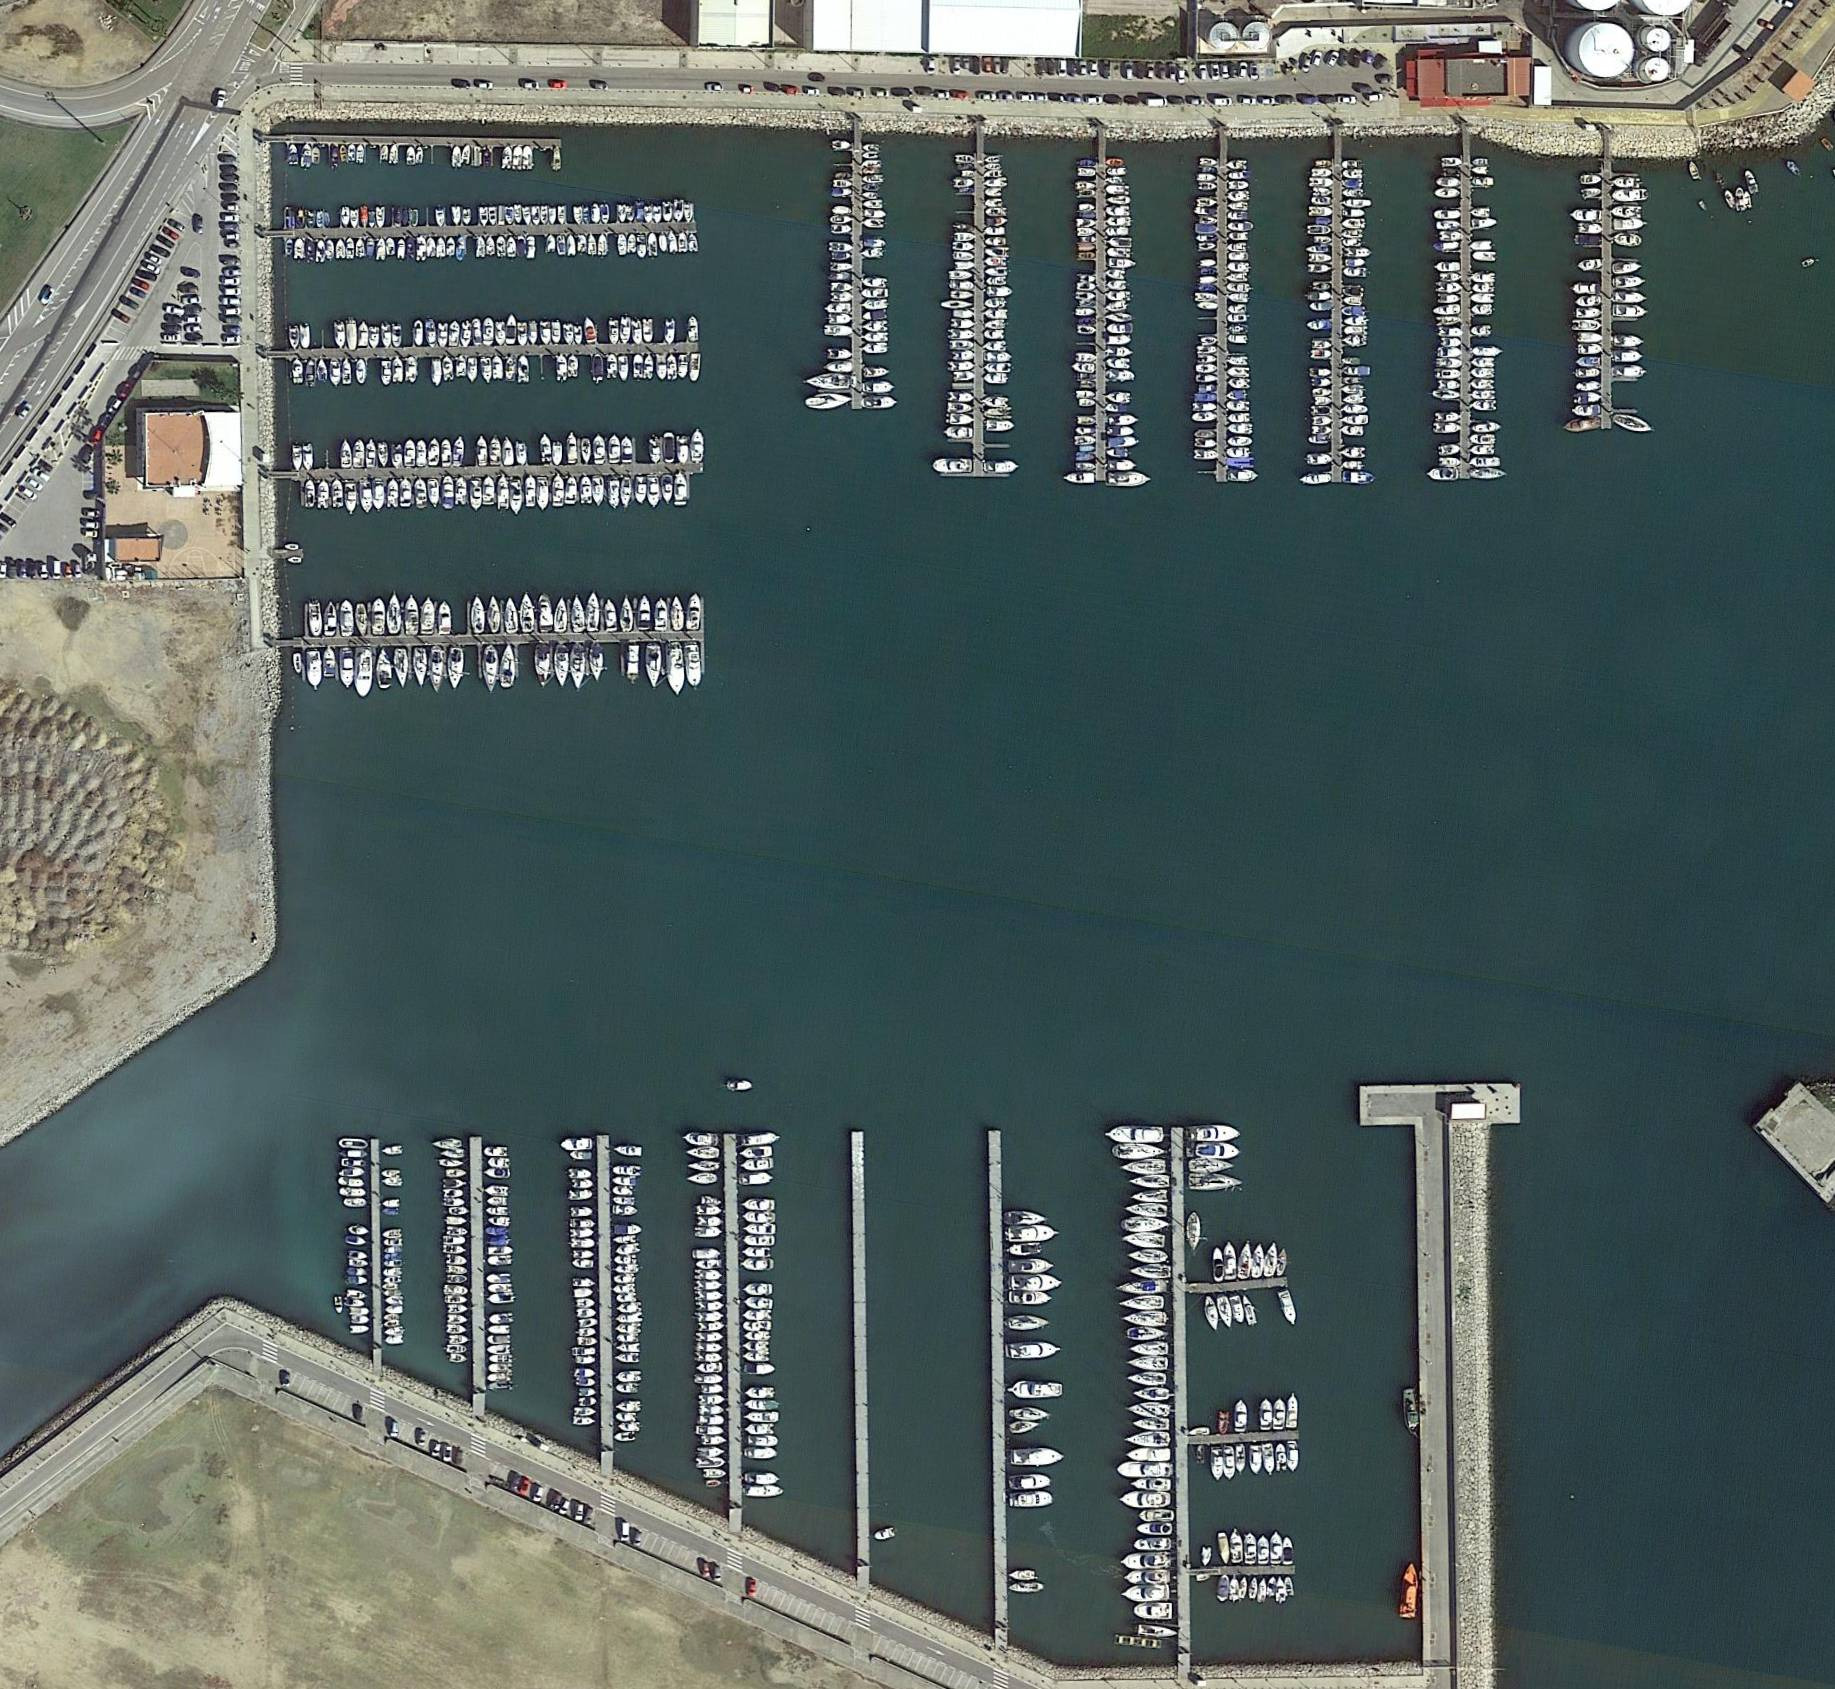harbor: (1359, 1085, 1539, 1655), (1172, 1128, 1300, 1647), (293, 598, 707, 682), (286, 436, 703, 510), (277, 318, 702, 387), (275, 203, 699, 264), (943, 155, 1012, 479), (1073, 147, 1136, 486), (1192, 144, 1253, 486), (1434, 150, 1496, 483), (1309, 145, 1367, 486), (1574, 166, 1642, 430), (823, 150, 890, 412), (988, 1131, 1009, 1628), (273, 134, 563, 168), (850, 1131, 871, 1563), (722, 1135, 743, 1510), (595, 1135, 615, 1453), (468, 1138, 486, 1401), (369, 1139, 384, 1361)
ship: (1400, 1385, 1423, 1438), (1611, 411, 1654, 436), (665, 644, 686, 697), (1009, 1381, 1061, 1401), (1400, 1563, 1419, 1619), (1117, 1460, 1173, 1480), (1010, 1448, 1065, 1467), (1105, 1127, 1164, 1144), (1005, 1342, 1061, 1360), (1188, 1174, 1244, 1192), (353, 647, 372, 698), (1009, 1275, 1061, 1293), (1119, 1491, 1172, 1508), (1200, 1294, 1223, 1334), (1276, 1290, 1300, 1326), (806, 393, 854, 411), (483, 646, 500, 693), (569, 642, 587, 690), (1122, 1585, 1170, 1603), (532, 646, 551, 689), (1009, 1405, 1052, 1424), (1122, 1230, 1165, 1250), (1009, 1226, 1060, 1242), (1189, 1127, 1240, 1143), (1121, 1216, 1172, 1232), (1121, 1553, 1172, 1569), (686, 642, 703, 689), (646, 644, 663, 690), (448, 649, 467, 690), (1562, 415, 1603, 435), (1215, 1293, 1236, 1331), (806, 372, 850, 390), (1196, 1143, 1240, 1160), (499, 646, 516, 689), (553, 646, 571, 689), (1113, 1144, 1165, 1158), (1125, 1200, 1168, 1218), (1116, 1280, 1168, 1294), (1237, 1238, 1255, 1282), (428, 647, 444, 693), (1122, 1310, 1168, 1326), (1125, 1432, 1172, 1448), (376, 649, 393, 690), (305, 650, 323, 692), (537, 591, 555, 633), (1108, 471, 1152, 487), (1121, 1294, 1165, 1310), (1188, 1158, 1232, 1174), (1133, 1603, 1173, 1620), (1007, 1315, 1050, 1331), (1009, 1475, 1052, 1491), (1010, 1492, 1053, 1508), (1127, 1401, 1170, 1417), (1124, 1571, 1172, 1585), (569, 596, 587, 634), (1263, 1242, 1280, 1280), (1125, 1448, 1172, 1462), (585, 591, 601, 633), (1127, 1248, 1168, 1264), (1127, 1326, 1168, 1342), (1127, 1357, 1168, 1373), (1121, 1160, 1165, 1174), (933, 459, 973, 475), (588, 644, 604, 684), (1186, 1211, 1202, 1251), (1004, 1211, 1047, 1226), (738, 1131, 782, 1146), (412, 649, 428, 687), (1009, 1417, 1041, 1437), (1127, 1371, 1165, 1387), (1240, 1294, 1260, 1326), (1133, 1385, 1172, 1401), (387, 593, 401, 634), (404, 594, 419, 636), (1010, 1291, 1052, 1305), (1130, 1264, 1172, 1278), (1009, 1261, 1055, 1274), (504, 598, 519, 634), (683, 1131, 719, 1147), (1132, 1189, 1168, 1205), (1250, 1243, 1266, 1280), (339, 649, 353, 689), (486, 594, 500, 634), (519, 593, 534, 633), (687, 591, 702, 631), (1138, 1625, 1178, 1639), (738, 1171, 774, 1187), (1216, 1531, 1232, 1566), (1229, 1294, 1247, 1326), (340, 599, 355, 638), (508, 479, 523, 518), (1130, 1342, 1168, 1357), (1285, 1392, 1300, 1430), (580, 315, 598, 345), (1128, 1174, 1170, 1187), (308, 601, 323, 638), (420, 598, 435, 634), (670, 596, 684, 633), (1133, 1417, 1170, 1432), (395, 649, 408, 689), (627, 646, 639, 686), (1613, 233, 1645, 249), (438, 601, 452, 636), (863, 396, 898, 411), (691, 428, 705, 463), (638, 596, 652, 631), (654, 598, 668, 633), (1007, 1242, 1042, 1256), (740, 1258, 775, 1272), (1613, 217, 1648, 232), (472, 596, 484, 634), (622, 594, 635, 633), (743, 1411, 782, 1424), (1223, 1242, 1236, 1280), (1611, 189, 1650, 201), (1133, 1539, 1172, 1552), (863, 380, 897, 395), (604, 599, 619, 633), (686, 1146, 719, 1160), (742, 1157, 775, 1171), (1343, 471, 1376, 486), (1300, 471, 1333, 486), (1234, 1400, 1248, 1433), (324, 601, 337, 638), (372, 599, 385, 636), (555, 598, 567, 634), (1231, 1528, 1244, 1564), (1613, 305, 1650, 318), (1611, 292, 1648, 305), (1136, 1523, 1173, 1536), (1130, 1480, 1172, 1491), (414, 478, 428, 510), (686, 1171, 718, 1186), (1276, 1246, 1290, 1278), (1272, 1400, 1287, 1432), (1611, 260, 1643, 275), (985, 462, 1020, 475), (647, 475, 660, 510), (360, 479, 372, 515), (470, 478, 483, 513), (743, 1448, 778, 1460), (738, 1146, 774, 1158), (1009, 1582, 1044, 1595), (1611, 275, 1646, 288), (1611, 366, 1646, 379), (1140, 1510, 1175, 1523), (1742, 169, 1760, 195), (452, 436, 467, 467), (564, 476, 579, 507), (743, 1283, 774, 1298), (1248, 1445, 1263, 1475), (1571, 281, 1602, 296), (615, 1242, 643, 1258), (566, 431, 579, 465), (496, 476, 508, 510), (345, 318, 358, 352), (742, 1198, 775, 1211), (1212, 1448, 1224, 1481), (607, 435, 622, 463), (1216, 1576, 1231, 1604), (743, 1400, 780, 1411), (746, 1486, 783, 1497), (1471, 470, 1507, 481), (355, 606, 368, 638), (1228, 470, 1260, 483), (675, 475, 687, 507), (551, 475, 564, 507), (476, 435, 489, 467), (344, 483, 356, 515), (743, 1211, 775, 1224), (743, 1224, 775, 1237), (337, 1138, 369, 1151), (561, 1138, 593, 1151), (1427, 468, 1459, 481), (1223, 1448, 1236, 1480), (1287, 1441, 1300, 1473), (1263, 1445, 1276, 1476), (1611, 205, 1643, 217), (1570, 209, 1602, 222), (443, 476, 454, 511), (745, 1473, 780, 1484), (1213, 1246, 1224, 1282), (1256, 1577, 1271, 1604), (1065, 471, 1095, 484), (649, 435, 662, 465), (593, 435, 606, 465), (502, 436, 515, 467), (489, 436, 502, 467), (304, 479, 316, 510), (483, 476, 496, 507), (591, 355, 604, 385), (745, 1387, 775, 1400), (743, 1298, 774, 1310), (337, 1166, 368, 1179), (1614, 336, 1645, 348), (537, 478, 548, 511), (524, 475, 535, 508), (687, 1160, 721, 1171), (945, 427, 973, 439), (825, 324, 854, 337), (323, 649, 336, 678), (518, 355, 531, 384), (331, 479, 344, 508), (387, 479, 400, 508), (400, 479, 412, 508), (456, 478, 468, 507), (428, 438, 441, 467), (689, 353, 702, 382), (430, 360, 443, 388), (425, 320, 438, 348), (1308, 452, 1333, 467), (1276, 1445, 1288, 1473), (1578, 257, 1603, 272), (1108, 436, 1140, 447), (1108, 415, 1140, 427), (372, 479, 384, 511), (743, 1235, 775, 1246), (742, 1310, 774, 1321), (1469, 457, 1501, 468), (1271, 1532, 1282, 1564), (1245, 1532, 1256, 1564), (1261, 1400, 1272, 1432), (874, 1528, 897, 1544), (981, 396, 1009, 409), (826, 348, 854, 361), (635, 478, 647, 505), (615, 1371, 643, 1384), (615, 1400, 643, 1413), (695, 1361, 722, 1374), (488, 1293, 515, 1305), (488, 1312, 515, 1325), (1723, 189, 1737, 213), (986, 420, 1017, 431), (1108, 460, 1138, 471), (472, 316, 483, 347), (593, 476, 604, 507), (609, 479, 620, 510), (662, 475, 673, 505), (663, 433, 675, 463), (428, 479, 440, 510), (366, 439, 377, 470), (353, 439, 364, 470), (340, 439, 352, 470), (745, 1363, 775, 1374), (745, 1424, 775, 1435), (748, 1437, 778, 1448), (694, 1374, 724, 1385), (695, 1425, 726, 1437), (695, 1457, 726, 1468), (1571, 404, 1602, 415), (1614, 352, 1645, 363), (1571, 320, 1602, 331), (1686, 161, 1702, 182), (949, 414, 975, 427), (863, 276, 889, 289), (1106, 358, 1132, 371), (1106, 391, 1132, 404), (580, 478, 593, 503), (316, 483, 329, 508), (436, 323, 449, 348), (299, 324, 312, 350), (614, 1205, 639, 1218), (946, 391, 975, 403), (823, 361, 852, 372), (1109, 257, 1138, 268), (483, 318, 494, 347), (540, 435, 551, 463), (416, 439, 427, 468), (620, 316, 631, 345), (329, 360, 340, 388), (334, 321, 345, 350), (692, 1250, 721, 1261), (697, 1321, 726, 1333), (615, 1312, 644, 1323), (614, 1146, 643, 1157), (614, 1166, 643, 1178), (695, 1342, 724, 1353), (743, 1321, 772, 1333), (1343, 366, 1371, 377), (1258, 1536, 1269, 1564), (1236, 1445, 1247, 1473), (1611, 177, 1640, 189), (301, 144, 313, 168), (622, 476, 631, 508), (291, 360, 304, 384), (1228, 1579, 1240, 1603), (1237, 1576, 1250, 1600), (1247, 1577, 1260, 1601), (1266, 1576, 1279, 1600), (347, 1224, 371, 1237), (432, 1139, 464, 1149), (488, 1214, 511, 1227), (444, 1285, 468, 1298), (1472, 347, 1504, 356), (1471, 423, 1503, 433), (1218, 1411, 1231, 1435), (946, 403, 973, 414), (985, 352, 1012, 363), (985, 363, 1012, 374), (1228, 221, 1255, 232), (456, 236, 467, 264), (687, 316, 699, 344), (406, 356, 417, 384), (678, 436, 689, 463), (622, 436, 633, 463), (580, 439, 591, 467), (481, 356, 492, 384), (404, 439, 416, 467), (619, 356, 630, 384), (667, 355, 678, 382), (665, 318, 676, 345), (467, 356, 478, 384), (293, 444, 304, 471), (305, 360, 316, 387), (356, 360, 368, 387), (412, 320, 424, 347), (695, 1227, 722, 1238), (697, 1312, 724, 1323), (615, 1302, 643, 1313), (743, 1341, 770, 1352), (699, 1395, 726, 1406), (699, 1446, 726, 1457), (743, 1246, 770, 1258), (484, 1168, 511, 1179), (1435, 281, 1463, 292), (1432, 241, 1459, 252), (1435, 316, 1463, 328), (1434, 423, 1461, 435), (1576, 380, 1603, 391), (1574, 235, 1602, 246), (985, 407, 1012, 419), (1582, 185, 1603, 200), (507, 315, 516, 345), (695, 1333, 726, 1342), (825, 304, 850, 315), (863, 344, 889, 355), (865, 368, 890, 379), (1228, 423, 1253, 435), (1228, 436, 1253, 447), (1108, 323, 1133, 334), (1108, 347, 1133, 358), (1106, 291, 1132, 302), (393, 358, 404, 384), (449, 321, 460, 347), (443, 356, 454, 382), (556, 355, 567, 380), (607, 355, 619, 380), (523, 145, 534, 171), (678, 355, 689, 380), (631, 320, 643, 345), (392, 444, 403, 470), (377, 443, 388, 468), (380, 361, 392, 387), (615, 1342, 641, 1353), (615, 1353, 641, 1365), (1276, 1577, 1287, 1603), (440, 1147, 465, 1158), (571, 1238, 596, 1250), (484, 1186, 510, 1197), (1472, 399, 1498, 411), (1435, 221, 1461, 232), (1439, 444, 1461, 457), (1435, 412, 1461, 423), (1306, 320, 1331, 331), (1576, 296, 1602, 307), (1578, 332, 1603, 344), (1578, 344, 1603, 355), (1576, 356, 1602, 368), (1734, 187, 1745, 213), (940, 300, 975, 308), (948, 363, 977, 372), (443, 439, 452, 468), (694, 1282, 722, 1291), (695, 1291, 724, 1301), (614, 1226, 643, 1235), (695, 1353, 724, 1363), (337, 1178, 366, 1187), (1434, 262, 1463, 272), (830, 241, 854, 252), (985, 177, 1009, 189), (985, 308, 1009, 320), (865, 300, 889, 312), (865, 310, 889, 321), (865, 321, 889, 332), (1226, 368, 1250, 379), (1228, 401, 1252, 412), (1196, 224, 1220, 235), (1106, 185, 1130, 197), (416, 236, 427, 260), (492, 356, 504, 380), (551, 147, 563, 171), (456, 355, 467, 379), (516, 443, 527, 467), (496, 323, 507, 347), (527, 321, 539, 345), (540, 323, 551, 347), (567, 355, 579, 379), (643, 320, 654, 344), (289, 328, 301, 352), (358, 323, 369, 347), (380, 324, 392, 348), (392, 324, 403, 348), (488, 1254, 511, 1266), (569, 1190, 593, 1202), (571, 1227, 595, 1238), (484, 1146, 508, 1157), (488, 1158, 511, 1170), (1471, 379, 1495, 390), (1471, 444, 1495, 455), (1344, 336, 1368, 347), (1343, 305, 1367, 316), (1343, 447, 1367, 459), (1578, 393, 1602, 404), (1579, 224, 1603, 235), (985, 297, 1005, 310), (1106, 300, 1127, 313), (1105, 268, 1125, 281), (1200, 1547, 1213, 1568), (862, 289, 889, 299), (1106, 313, 1133, 323), (1109, 371, 1136, 380), (1108, 427, 1135, 436), (657, 355, 667, 382), (304, 444, 313, 471), (615, 1323, 643, 1333), (697, 1218, 724, 1227), (695, 1259, 722, 1269), (695, 1270, 722, 1280), (743, 1352, 770, 1361), (699, 1416, 726, 1425), (340, 1187, 368, 1197), (440, 1158, 467, 1168), (1009, 1571, 1036, 1580), (1435, 177, 1463, 187), (1434, 189, 1461, 198), (1434, 209, 1461, 219), (1434, 390, 1461, 399), (1344, 248, 1371, 257), (1284, 1537, 1293, 1564), (831, 292, 854, 304), (983, 340, 1005, 352), (1228, 412, 1250, 423), (1228, 447, 1250, 459), (502, 147, 513, 169), (551, 323, 563, 345), (563, 324, 574, 347), (316, 358, 328, 380), (369, 328, 380, 350), (614, 1195, 636, 1206), (614, 1274, 636, 1285), (382, 1146, 404, 1157), (1284, 1576, 1295, 1598), (345, 1235, 368, 1246), (347, 1290, 369, 1301), (446, 1254, 468, 1266), (1472, 368, 1495, 379), (1311, 177, 1333, 189), (1341, 425, 1363, 436), (949, 331, 975, 340), (949, 340, 975, 350), (985, 248, 1010, 257), (986, 288, 1012, 297), (1192, 403, 1218, 412), (1192, 412, 1218, 422), (1106, 336, 1132, 345), (1106, 206, 1132, 216), (1108, 238, 1133, 248), (638, 235, 647, 260), (553, 441, 563, 467), (644, 355, 654, 380), (342, 360, 352, 385), (697, 1206, 722, 1216), (699, 1406, 724, 1416), (702, 1437, 727, 1446), (342, 1158, 368, 1168), (488, 1365, 513, 1374), (486, 1274, 511, 1283), (727, 1082, 753, 1091), (488, 1382, 513, 1392), (1472, 219, 1498, 229), (1472, 252, 1498, 262), (1434, 305, 1459, 315), (1437, 348, 1463, 358), (1343, 268, 1368, 278), (1343, 415, 1368, 425), (1576, 369, 1602, 379), (1308, 292, 1333, 302), (695, 1302, 726, 1310), (293, 654, 304, 674), (1228, 292, 1248, 304), (954, 260, 975, 272), (507, 236, 518, 257), (496, 236, 507, 257), (599, 205, 611, 225), (294, 240, 305, 260), (619, 1422, 639, 1433), (579, 1318, 599, 1329), (574, 1288, 595, 1299), (380, 1168, 401, 1179), (1471, 324, 1491, 336), (1311, 368, 1331, 379), (1343, 169, 1363, 181), (1228, 356, 1248, 368), (830, 216, 854, 225), (985, 374, 1009, 384), (830, 315, 854, 324), (985, 267, 1009, 276), (865, 332, 889, 342), (1228, 379, 1252, 388), (1194, 451, 1218, 460), (953, 241, 977, 251), (949, 272, 973, 281), (1108, 217, 1132, 227), (1108, 248, 1132, 257), (649, 233, 659, 257), (526, 236, 535, 260), (675, 200, 684, 224), (316, 240, 326, 264), (518, 323, 527, 347), (609, 321, 619, 345), (635, 355, 644, 379), (615, 1384, 639, 1393), (572, 1347, 596, 1357), (612, 1176, 636, 1186), (614, 1285, 638, 1294), (742, 1333, 770, 1341), (703, 1468, 727, 1478), (340, 1151, 369, 1158), (344, 1198, 368, 1208), (488, 1325, 511, 1334), (488, 1334, 511, 1344), (488, 1345, 511, 1355), (443, 1179, 467, 1189), (443, 1237, 467, 1246), (1471, 358, 1495, 368), (1469, 241, 1493, 251), (1471, 273, 1495, 283), (1471, 294, 1495, 304), (1471, 435, 1495, 444), (1440, 328, 1464, 337), (1343, 219, 1367, 229), (1344, 316, 1368, 326), (1344, 326, 1368, 336), (1311, 208, 1335, 217), (1344, 404, 1368, 414), (1343, 200, 1371, 208), (1308, 225, 1331, 235), (1308, 264, 1331, 273), (1578, 308, 1602, 318), (488, 1246, 515, 1254), (1435, 360, 1463, 368), (1435, 371, 1463, 379), (831, 283, 854, 292), (953, 352, 975, 361), (986, 217, 1009, 227), (985, 236, 1007, 246), (985, 257, 1007, 267), (986, 320, 1005, 331), (865, 209, 887, 219), (865, 240, 887, 249), (862, 248, 884, 257), (1228, 390, 1247, 401), (1228, 283, 1250, 292), (1196, 292, 1218, 302), (1228, 192, 1250, 201), (1229, 171, 1252, 181), (1073, 363, 1095, 372), (1106, 227, 1128, 236), (668, 230, 678, 252), (598, 233, 607, 256), (376, 238, 385, 260), (683, 205, 694, 224), (591, 203, 601, 225), (345, 238, 355, 260), (513, 147, 523, 169), (460, 145, 472, 165), (452, 145, 462, 168), (615, 1413, 638, 1422), (614, 1432, 636, 1441), (574, 1369, 596, 1379), (574, 1408, 596, 1417), (614, 1235, 636, 1245), (615, 1254, 638, 1264), (702, 1385, 724, 1395), (449, 1353, 468, 1365), (385, 1334, 404, 1345), (489, 1237, 511, 1246), (569, 1170, 591, 1179), (572, 1179, 595, 1189), (571, 1208, 593, 1218), (572, 1250, 595, 1259), (572, 1259, 595, 1269), (486, 1206, 508, 1216), (443, 1189, 465, 1198), (446, 1266, 468, 1275), (486, 1227, 508, 1237), (1471, 208, 1490, 219), (1472, 390, 1495, 399), (1440, 232, 1463, 241), (1439, 294, 1461, 304), (1439, 380, 1461, 390), (1343, 288, 1365, 297), (1341, 385, 1363, 395), (1309, 254, 1331, 264), (1189, 1427, 1212, 1437), (1581, 176, 1603, 185), (951, 320, 977, 328), (571, 1219, 596, 1227), (1800, 257, 1816, 270), (833, 206, 854, 216), (831, 225, 852, 235), (986, 276, 1007, 286), (863, 200, 884, 209), (865, 219, 886, 229), (1228, 243, 1248, 252), (1076, 182, 1097, 192), (1228, 201, 1248, 211), (1197, 302, 1218, 312), (1196, 364, 1216, 374), (1196, 430, 1216, 439), (1228, 160, 1248, 169), (1229, 181, 1250, 190), (1076, 353, 1097, 363), (476, 236, 486, 257), (396, 240, 406, 260), (663, 201, 673, 222), (336, 240, 345, 260), (289, 145, 299, 166), (326, 240, 336, 260), (376, 208, 385, 229), (296, 208, 305, 229), (1197, 198, 1218, 208), (575, 1377, 596, 1387), (617, 1293, 638, 1302), (384, 1326, 404, 1336), (382, 1178, 403, 1187), (614, 1186, 635, 1195), (449, 1336, 470, 1345), (348, 1251, 369, 1261), (571, 1151, 591, 1160), (488, 1197, 508, 1206), (449, 1206, 470, 1216), (448, 1227, 468, 1237), (448, 1315, 468, 1325), (446, 1325, 467, 1334), (1472, 305, 1493, 315), (1442, 158, 1463, 168), (1343, 230, 1363, 240), (1343, 395, 1363, 404), (1343, 189, 1363, 198), (1311, 350, 1331, 360), (1312, 417, 1333, 427), (833, 189, 854, 198), (1200, 336, 1218, 347), (385, 238, 396, 256), (949, 291, 973, 299), (949, 281, 973, 289), (1105, 404, 1128, 412), (1108, 197, 1132, 205), (572, 1417, 596, 1425), (615, 1266, 639, 1274), (572, 1278, 596, 1286), (488, 1285, 511, 1293), (489, 1355, 513, 1363), (488, 1374, 511, 1382), (443, 1198, 467, 1206), (443, 1246, 467, 1254), (444, 1296, 468, 1304), (1471, 177, 1495, 185), (1343, 209, 1367, 217), (1228, 305, 1247, 315), (1077, 168, 1097, 177), (1077, 219, 1097, 229), (954, 179, 973, 189), (1108, 280, 1127, 289), (1077, 326, 1097, 336), (1077, 417, 1097, 427), (1076, 452, 1095, 462), (1108, 168, 1127, 177), (1106, 176, 1125, 185), (659, 233, 668, 252), (689, 233, 699, 252), (486, 236, 496, 256), (446, 236, 456, 256), (436, 238, 446, 257), (427, 238, 436, 257), (366, 238, 376, 257), (678, 233, 687, 252), (390, 145, 400, 165), (307, 209, 316, 229), (575, 1299, 595, 1309), (577, 1309, 596, 1318), (382, 1229, 401, 1238), (385, 1296, 404, 1305), (345, 1299, 364, 1309), (1343, 179, 1362, 189), (1312, 388, 1331, 398), (1698, 200, 1710, 214), (831, 264, 854, 272), (954, 372, 977, 380), (986, 208, 1009, 216), (953, 310, 975, 318), (1228, 264, 1250, 272), (1196, 376, 1218, 384), (1194, 395, 1216, 403), (1106, 449, 1128, 457), (954, 233, 977, 241), (953, 252, 975, 260), (588, 233, 596, 256), (567, 235, 575, 257), (617, 1334, 639, 1342), (1196, 1572, 1212, 1584), (347, 1277, 369, 1285), (446, 1345, 468, 1353), (1472, 284, 1495, 292), (1439, 459, 1461, 467), (1440, 273, 1463, 281), (1306, 244, 1328, 252), (1311, 304, 1333, 312), (1311, 407, 1333, 415), (863, 184, 881, 193), (862, 192, 879, 201), (833, 141, 850, 150), (1199, 241, 1216, 251), (547, 235, 556, 252), (644, 206, 654, 224), (489, 208, 499, 225), (574, 208, 583, 225), (523, 208, 532, 225), (505, 208, 515, 225), (480, 208, 489, 225), (1200, 216, 1218, 225), (579, 1328, 596, 1337), (579, 1398, 596, 1408), (382, 1198, 400, 1208), (1471, 166, 1488, 176), (1200, 158, 1218, 168), (1316, 396, 1333, 406), (1744, 192, 1753, 209), (833, 181, 854, 189), (985, 331, 1005, 339), (985, 227, 1005, 235), (863, 176, 884, 184), (1228, 252, 1248, 260), (1228, 273, 1248, 281), (1228, 315, 1248, 323), (1228, 336, 1248, 344), (1229, 213, 1250, 221), (1197, 355, 1218, 363), (1196, 439, 1216, 447), (1076, 463, 1097, 471), (1076, 292, 1097, 300), (1076, 308, 1097, 316), (1076, 391, 1097, 399), (1076, 427, 1097, 435), (1076, 436, 1097, 444), (619, 235, 627, 256), (408, 240, 416, 260), (342, 208, 350, 229), (577, 1337, 598, 1345), (575, 1357, 596, 1365), (384, 1246, 404, 1254), (348, 1309, 369, 1317), (348, 1261, 369, 1269), (347, 1269, 368, 1277), (446, 1170, 467, 1178), (448, 1218, 468, 1226), (448, 1275, 468, 1283), (448, 1305, 468, 1313), (1442, 339, 1463, 347), (1311, 197, 1331, 205), (1346, 259, 1367, 267), (1343, 462, 1363, 470), (1311, 379, 1331, 387), (1312, 427, 1333, 435), (1308, 436, 1328, 444), (833, 252, 852, 260), (1077, 190, 1097, 198), (1077, 205, 1097, 213), (1077, 229, 1097, 236), (1197, 347, 1216, 355), (1229, 233, 1248, 241), (1199, 276, 1218, 284), (1077, 283, 1097, 291), (1077, 160, 1097, 168), (558, 236, 566, 256), (452, 206, 460, 225), (356, 145, 364, 165), (312, 149, 321, 165), (408, 147, 416, 166), (515, 205, 523, 224), (574, 326, 582, 345), (1197, 184, 1216, 192), (1197, 174, 1216, 182), (384, 1269, 403, 1277), (350, 1326, 369, 1334), (384, 1238, 403, 1246), (384, 1290, 403, 1298), (385, 1305, 404, 1313), (334, 1298, 344, 1313), (1312, 169, 1331, 177), (1312, 189, 1331, 197), (1343, 240, 1362, 248), (1344, 297, 1363, 305), (1343, 377, 1362, 385), (1312, 284, 1331, 292), (1312, 340, 1331, 348), (1343, 161, 1362, 169), (1197, 1446, 1205, 1465), (1196, 235, 1218, 241), (954, 157, 977, 163), (361, 206, 368, 229), (985, 200, 1002, 208), (985, 169, 1002, 177), (985, 189, 1002, 197), (862, 152, 879, 160), (1199, 284, 1216, 292), (1079, 399, 1097, 407), (1106, 160, 1124, 168), (654, 206, 662, 224), (619, 206, 627, 224), (558, 208, 566, 225), (540, 208, 548, 225), (356, 240, 364, 257), (348, 144, 356, 161), (340, 145, 348, 163), (532, 208, 540, 225), (436, 209, 444, 227), (352, 211, 360, 229), (579, 1389, 596, 1397), (705, 1480, 722, 1488), (352, 1317, 369, 1325), (382, 1208, 400, 1216), (384, 1277, 401, 1285), (384, 1320, 401, 1328), (1316, 160, 1333, 168), (1314, 236, 1331, 244), (985, 157, 1001, 165), (1200, 260, 1216, 268), (464, 209, 472, 225), (627, 206, 635, 222), (548, 209, 556, 225), (380, 145, 388, 161), (411, 209, 419, 225), (285, 543, 301, 551), (384, 1313, 400, 1321), (1474, 158, 1490, 166), (1316, 217, 1331, 225), (630, 233, 636, 252), (384, 1261, 403, 1267), (288, 558, 302, 566), (985, 163, 1002, 169), (863, 144, 881, 150), (1079, 252, 1097, 259), (384, 1254, 401, 1261), (1343, 358, 1360, 364), (1200, 268, 1216, 275), (1081, 236, 1097, 243), (1081, 276, 1097, 283), (1081, 446, 1097, 452), (369, 213, 376, 229), (417, 149, 424, 165), (382, 1285, 400, 1290)
storage tank: (1565, 21, 1635, 78), (1638, 56, 1672, 88), (1638, 24, 1672, 54)
